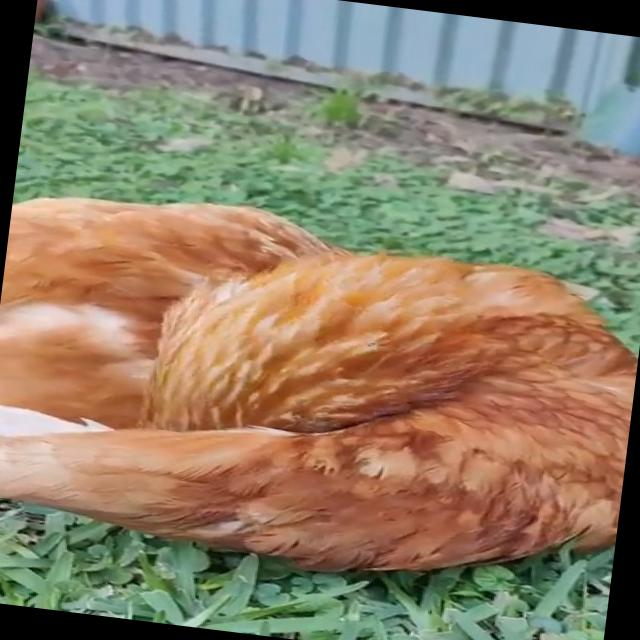self preening: (0, 170, 640, 617)
